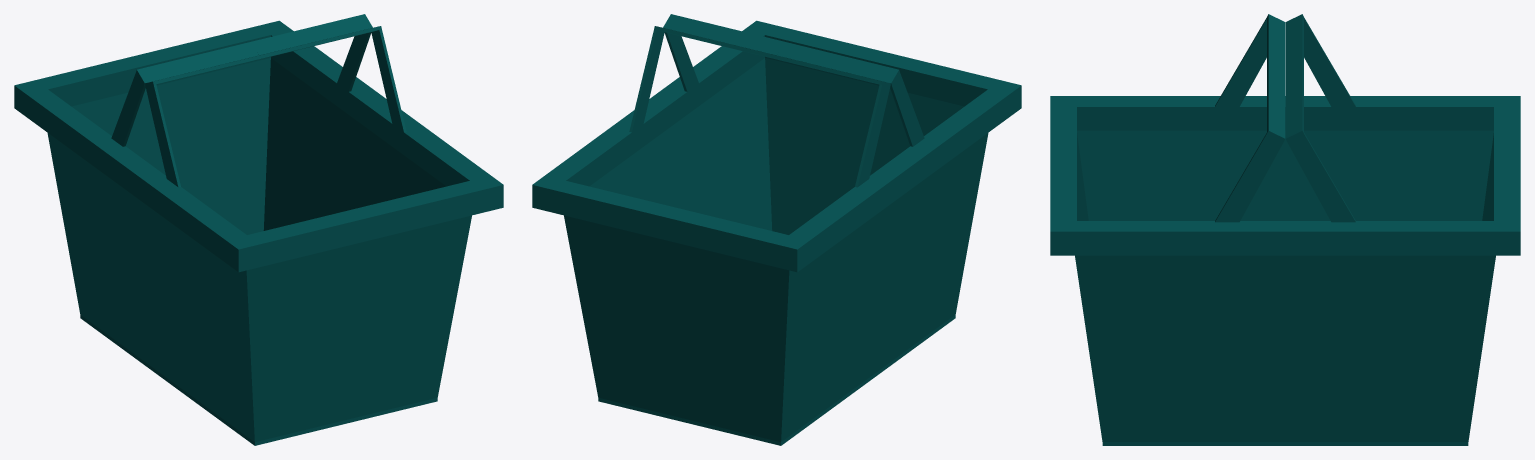
Rendered from basket.dae.
3 views of the same model, side by side, from view 1: azimuth 30°, elevation 25°; view 2: azimuth 150°, elevation 25°; view 3: azimuth 270°, elevation 25° (orthographic). The views are drawn at different scales.
Visible parts, largest first — view 1: Cube; view 2: Cube; view 3: Cube.
Part boxes in pixels (box(x1,y1,x2,y2)): Cube: box(14, 14, 503, 445); Cube: box(532, 14, 1021, 445); Cube: box(1050, 14, 1520, 445).
Size of the model in its own units: 0.3331 by 0.4879 by 0.3743.
